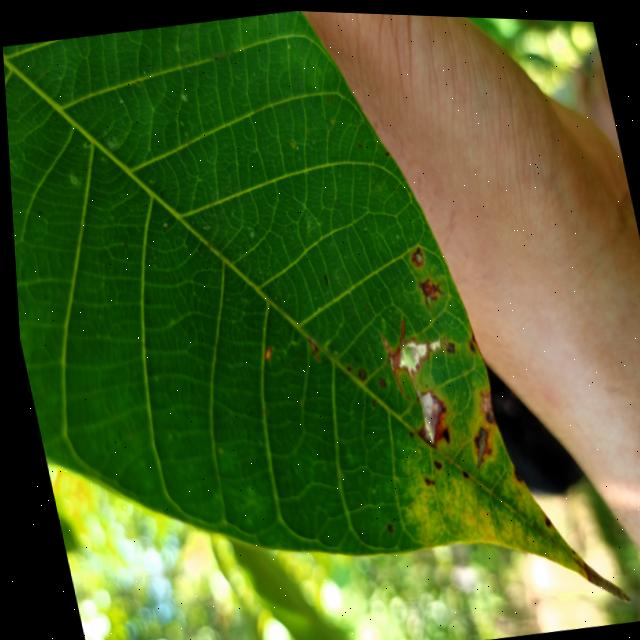Colletotrichum: (440, 338, 451, 352), (352, 366, 363, 379), (371, 374, 381, 386), (427, 457, 436, 467)
Corynespora: (413, 272, 444, 309)
Leaf-Blight: (408, 388, 444, 442), (390, 334, 427, 370), (473, 388, 491, 422)
